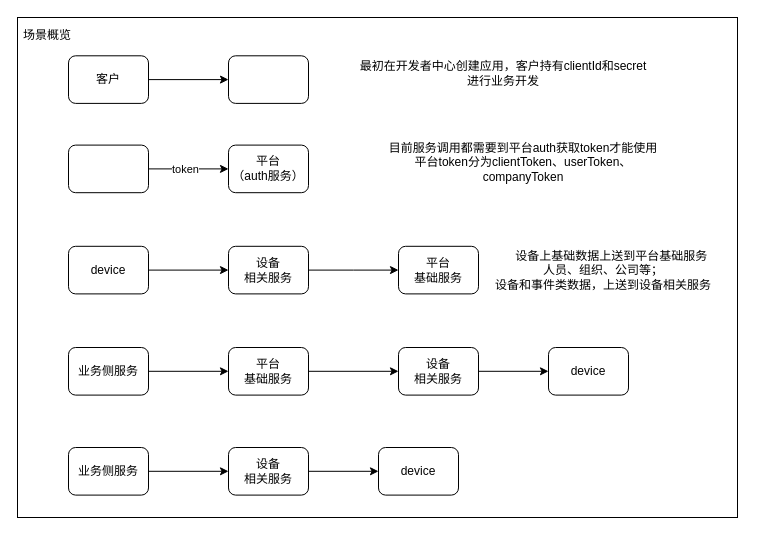
Image size: 766x535. Some labels were removed from this diagram. Here are the shapes that lost their labels. From the top down, the centre of each, then its label:
[268,79]: 平台服务 (开发者中心 创建应用)
[108,168]: 客户/业务侧服务/内部服务
